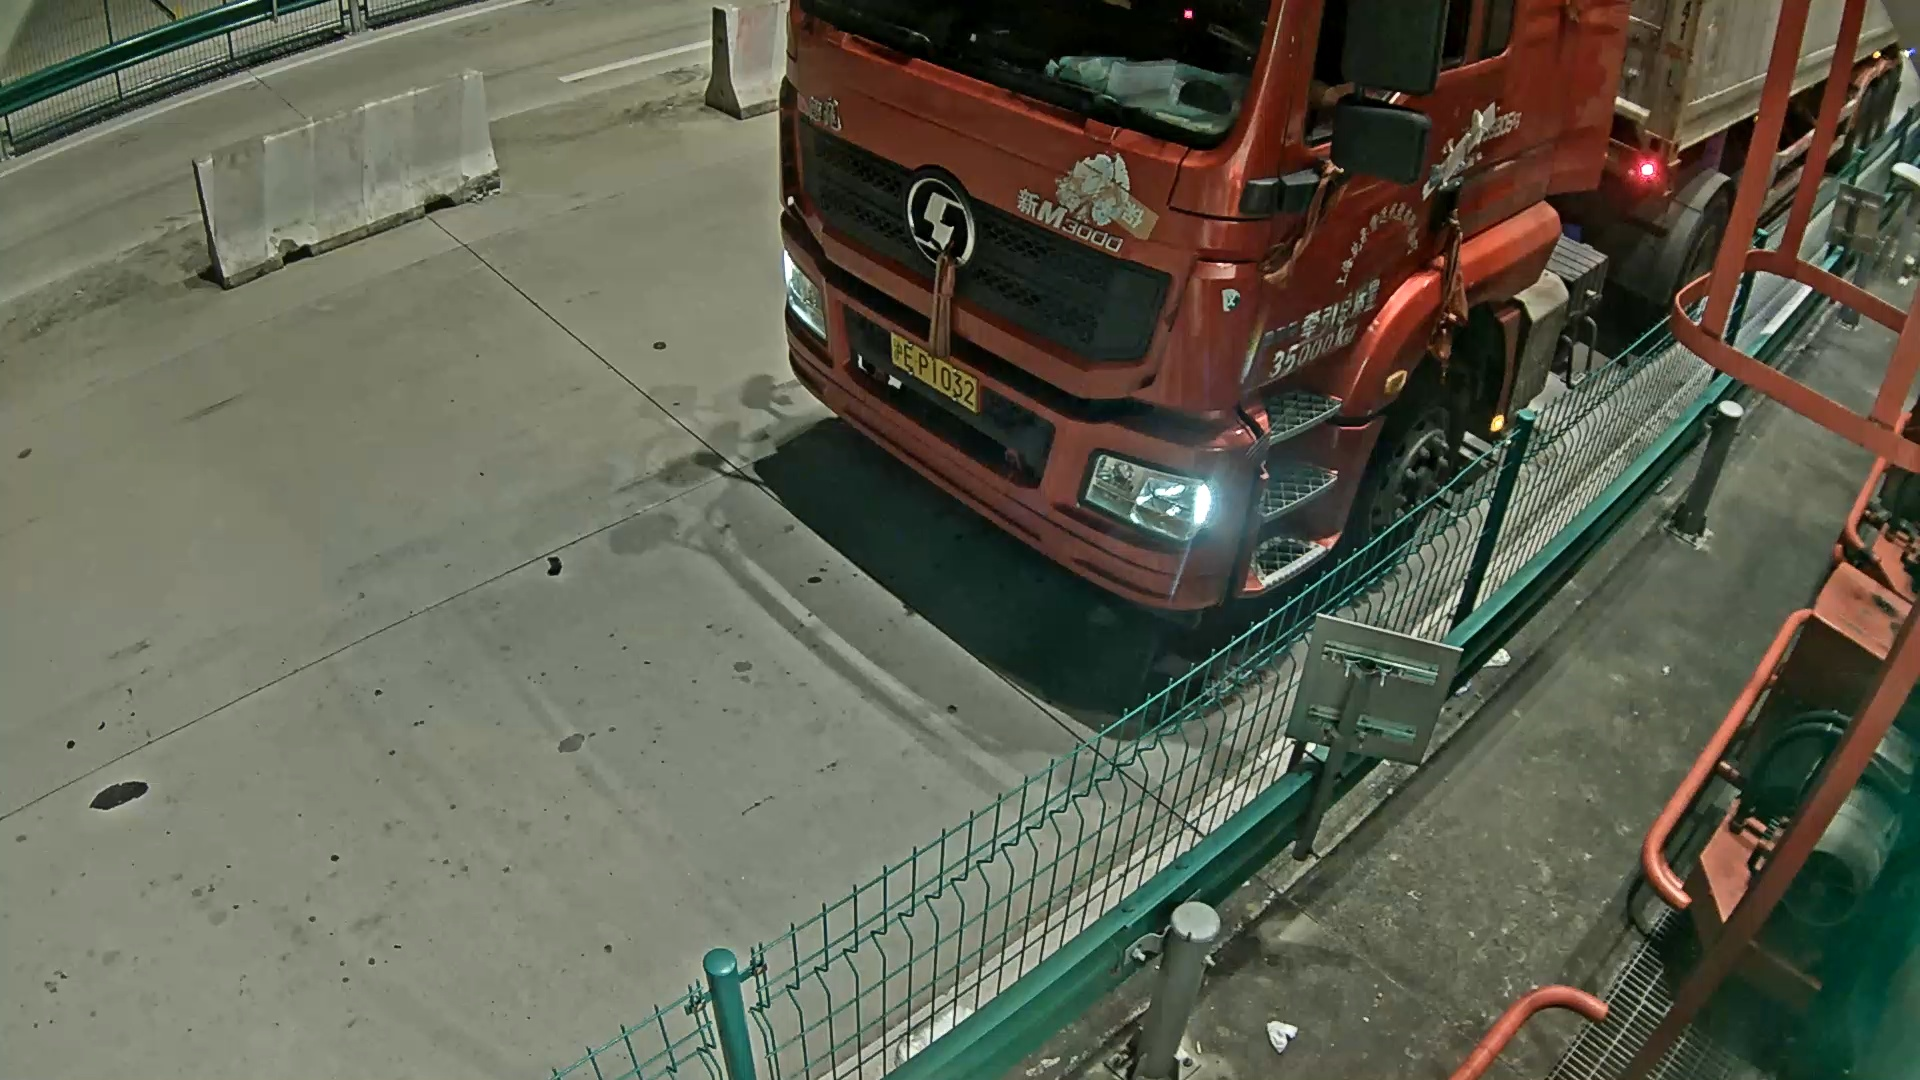head: (763, 19, 1401, 660)
plate: (876, 326, 987, 418)
